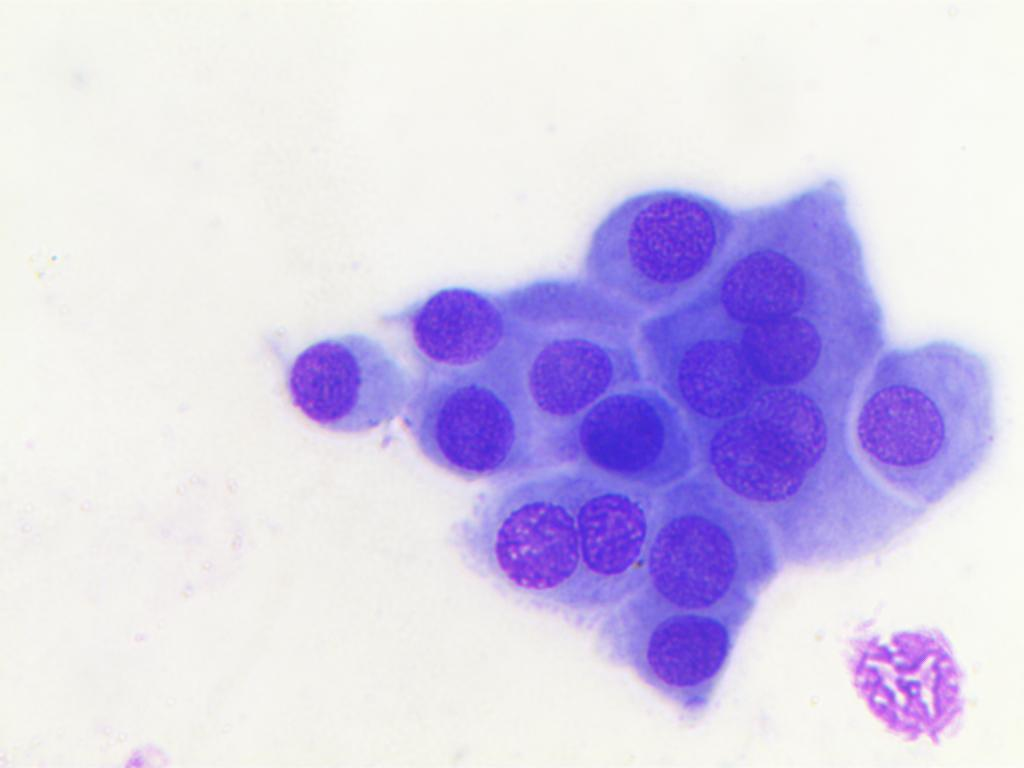epithelial: (855, 331, 1003, 497), (843, 612, 973, 752), (273, 319, 405, 445), (649, 320, 779, 430), (621, 604, 756, 708), (598, 178, 719, 287), (417, 373, 525, 480), (408, 272, 508, 374), (646, 512, 746, 611), (572, 391, 682, 480), (487, 497, 579, 597), (709, 418, 806, 507), (524, 323, 611, 413), (718, 245, 811, 321), (752, 392, 832, 473), (582, 489, 646, 579), (741, 319, 824, 384)
